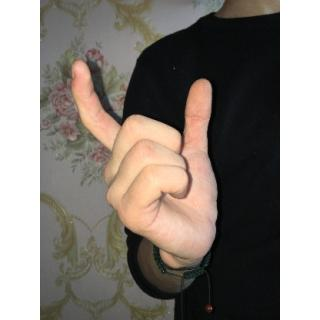NOON: (67, 56, 233, 259)
